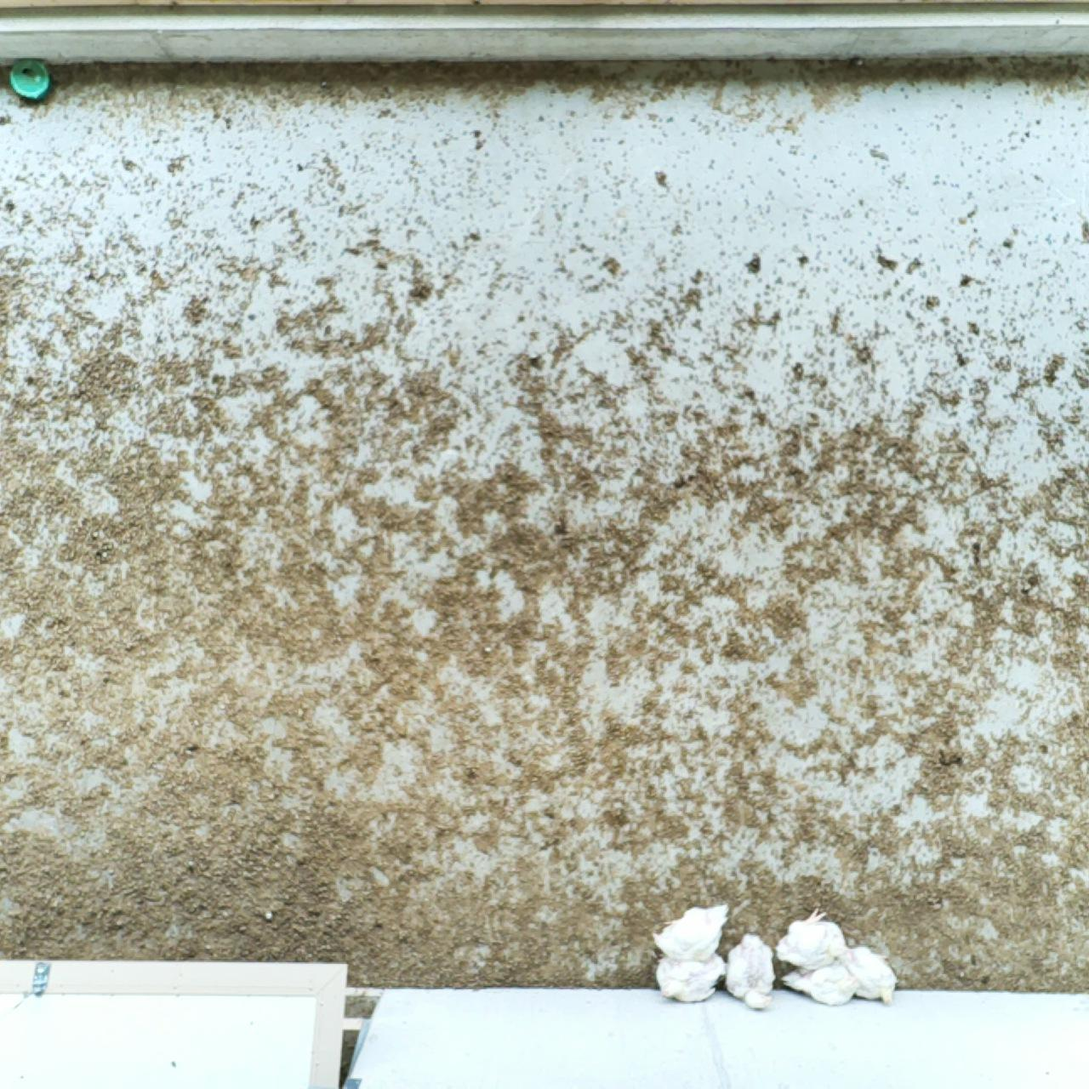chicken: (652, 897, 733, 962), (776, 909, 850, 975), (653, 939, 727, 1004), (835, 939, 903, 1008), (776, 958, 861, 1009), (723, 935, 777, 1015)
